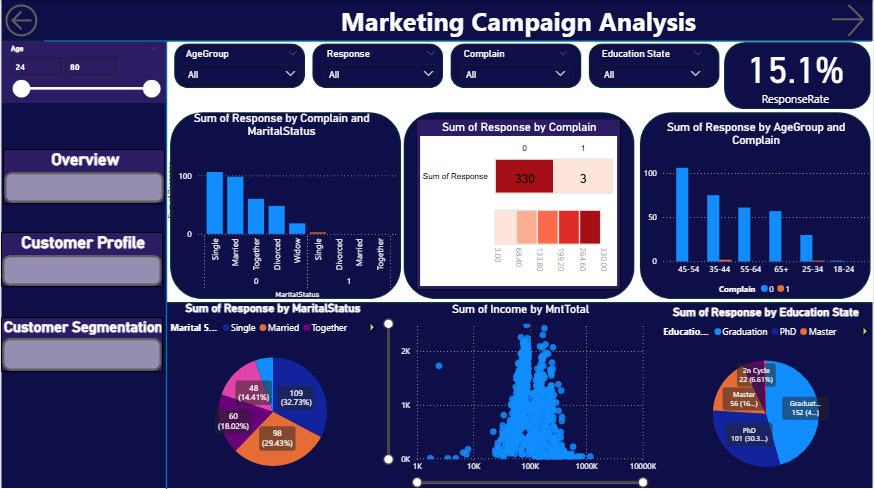

The dashboard page shown, as its layout file describes it:
{"tool":"powerbi","page":{"name":"Marketing Campaign Analysis","canvas":[1280,720],"ordinal":2},"visuals":[{"type":"card","fields":{"Values":["ifood_df.ResponseRate"]},"box":[1055,51.4,224.8,110.2],"z":0},{"type":"clusteredColumnChart","fields":{"Category":["ifood_df.Complain","ifood_df.MaritalStatus"],"Y":["Sum(ifood_df.Response)"]},"box":[238,163.1,348.2,280.7],"z":1000},{"type":"clusteredColumnChart","fields":{"Category":["ifood_df.AgeGroup"],"Y":["Sum(ifood_df.Response)"],"Series":["ifood_df.Complain"]},"box":[938.9,176.3,340.9,266],"z":2000},{"type":"pieChart","fields":{"Category":["ifood_df.Education State"],"Y":["Sum(ifood_df.Response)"]},"box":[968.3,448.2,311.5,271.8],"z":3000},{"type":"pieChart","fields":{"Category":["ifood_df.MaritalStatus"],"Y":["Sum(ifood_df.Response)"]},"box":[243.9,442.3,311.5,277.7],"z":4000},{"type":"slicer","fields":{"Values":["ifood_df.AgeGroup"]},"box":[258.6,66.1,189.6,61.7],"z":5000},{"type":"slicer","fields":{"Values":["ifood_df.Response"]},"box":[465.8,66.1,185.1,54.4],"z":6000},{"type":"slicer","fields":{"Values":["ifood_df.Complain"]},"box":[667.1,66.1,177.8,54.4],"z":7000},{"type":"slicer","fields":{"Values":["ifood_df.Education State"]},"box":[869.9,66.1,173.4,54.4],"z":8000},{"type":"textbox","box":[489.3,0,542.2,70.5],"z":9000},{"type":"TableHeatMap1443716069308","fields":{"Y":["Sum(ifood_df.Response)"],"Category":["ifood_df.Complain"]},"box":[609.8,174.9,301.2,251.3],"z":10000},{"type":"scatterChart","fields":{"X":["Sum(ifood_df.Income)"],"Y":["ifood_df.MntTotal"]},"box":[558.4,443.8,410,276.2],"z":11000},{"type":"actionButton","box":[0,0,63.5,60.3],"z":12000},{"type":"slicer","fields":{"Values":["ifood_df.Age"]},"box":[1.5,60.2,241,89.6],"z":13000},{"type":"shape","box":[63.5,0,1215.9,120.6],"z":14000},{"type":"shape","box":[179.3,60.2,127.8,659.8],"z":15000},{"type":"actionButton","title":"Overview","box":[2.9,218.9,238,80.8],"z":16000},{"type":"actionButton","title":"Customer Profile","box":[0,340.9,238,80.8],"z":17000},{"type":"actionButton","box":[1214.3,0,65.1,60.3],"z":18000},{"type":"actionButton","title":"Customer Segmentation","box":[0,465.8,238,80.8],"z":19000}]}

Visuals, with their boxes in screenshot pixels (x1, y1, x2, y2), scaled from the page's 1280x720 canvas onto the 874x489 screenshot:
card - ifood_df.ResponseRate: left=720, top=35, right=873, bottom=110
clusteredColumnChart - ifood_df.Complain x ifood_df.MaritalStatus: left=163, top=111, right=400, bottom=301
clusteredColumnChart - ifood_df.AgeGroup x Sum(ifood_df.Response): left=641, top=120, right=873, bottom=300
pieChart - ifood_df.Education State x Sum(ifood_df.Response): left=661, top=304, right=873, bottom=488
pieChart - ifood_df.MaritalStatus x Sum(ifood_df.Response): left=167, top=300, right=379, bottom=488
slicer - ifood_df.AgeGroup: left=177, top=45, right=306, bottom=87
slicer - ifood_df.Response: left=318, top=45, right=444, bottom=82
slicer - ifood_df.Complain: left=456, top=45, right=577, bottom=82
slicer - ifood_df.Education State: left=594, top=45, right=712, bottom=82
textbox: left=334, top=0, right=704, bottom=48
TableHeatMap1443716069308 - Sum(ifood_df.Response) x ifood_df.Complain: left=416, top=119, right=622, bottom=289
scatterChart - Sum(ifood_df.Income) x ifood_df.MntTotal: left=381, top=301, right=661, bottom=488
actionButton: left=0, top=0, right=43, bottom=41
slicer - ifood_df.Age: left=1, top=41, right=166, bottom=102
shape: left=43, top=0, right=873, bottom=82
shape: left=122, top=41, right=210, bottom=488
"Overview" actionButton: left=2, top=149, right=164, bottom=204
"Customer Profile" actionButton: left=0, top=232, right=163, bottom=286
actionButton: left=829, top=0, right=873, bottom=41
"Customer Segmentation" actionButton: left=0, top=316, right=163, bottom=371
